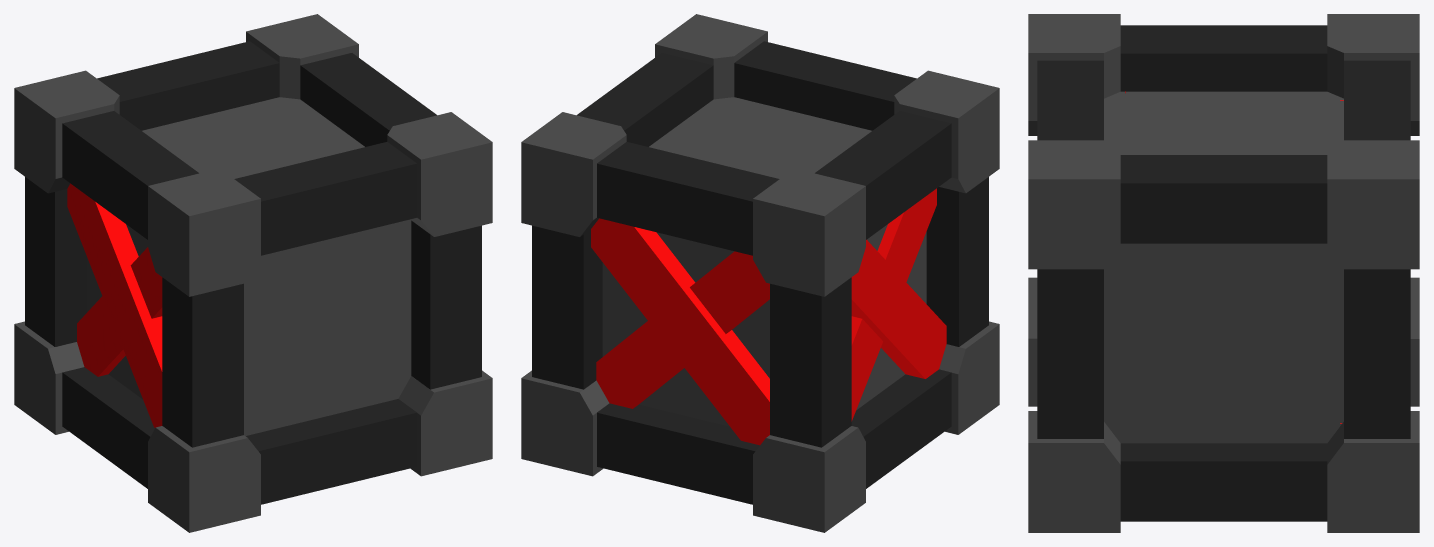
The model's file is Crate-00.fbx.
3 renders of one model, left to right at view 1: azimuth 30°, elevation 25°; view 2: azimuth 150°, elevation 25°; view 3: azimuth 270°, elevation 25°, orthographic. The views are drawn at different scales.
Parts seen in each view (by area): view 1: Cube, Cube.001, Cube.003, Cube.004, Cube.010, Cube.006, Cube.005, Cube.008, Cube.011, Cube.007; view 2: Cube, Cube.002, Cube.001, Cube.005, Cube.003, Cube.011, Cube.007, Cube.004, Cube.009, Cube.010, Cube.006; view 3: Cube, Cube.001, Cube.006, Cube.007, Cube.008, Cube.009, Cube.004, Cube.005, Cube.010, Cube.011.
Part boxes in pixels (left/top/right/bottom): Cube: left=25, top=41, right=481, bottom=504; Cube.001: left=87, top=97, right=411, bottom=435; Cube.003: left=67, top=183, right=162, bottom=427; Cube.004: left=148, top=171, right=260, bottom=296; Cube.010: left=148, top=426, right=260, bottom=532; Cube.006: left=387, top=112, right=492, bottom=236; Cube.005: left=14, top=70, right=119, bottom=193; Cube.008: left=398, top=370, right=492, bottom=476; Cube.011: left=14, top=321, right=84, bottom=434; Cube.007: left=246, top=14, right=358, bottom=99; Cube: left=532, top=41, right=988, bottom=504; Cube.002: left=591, top=218, right=769, bottom=445; Cube.001: left=602, top=97, right=926, bottom=426; Cube.005: left=753, top=171, right=865, bottom=296; Cube.003: left=851, top=188, right=946, bottom=421; Cube.011: left=753, top=426, right=865, bottom=532; Cube.007: left=521, top=112, right=626, bottom=236; Cube.004: left=894, top=70, right=999, bottom=193; Cube.009: left=521, top=370, right=609, bottom=476; Cube.010: left=939, top=321, right=999, bottom=434; Cube.006: left=655, top=14, right=767, bottom=99; Cube: left=1037, top=25, right=1410, bottom=521; Cube.001: left=1104, top=91, right=1343, bottom=443; Cube.006: left=1028, top=140, right=1120, bottom=269; Cube.007: left=1327, top=140, right=1419, bottom=269; Cube.008: left=1028, top=411, right=1120, bottom=532; Cube.009: left=1327, top=411, right=1419, bottom=532; Cube.004: left=1028, top=14, right=1120, bottom=135; Cube.005: left=1327, top=14, right=1419, bottom=135; Cube.010: left=1028, top=277, right=1037, bottom=406; Cube.011: left=1410, top=277, right=1419, bottom=406.
Bounding box in the file's own units: 210 × 209 × 210.
